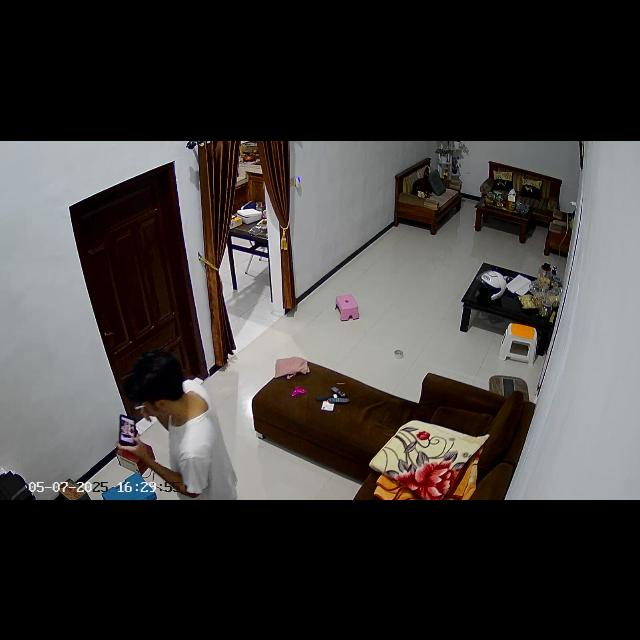rokok: (134, 404, 146, 410)
